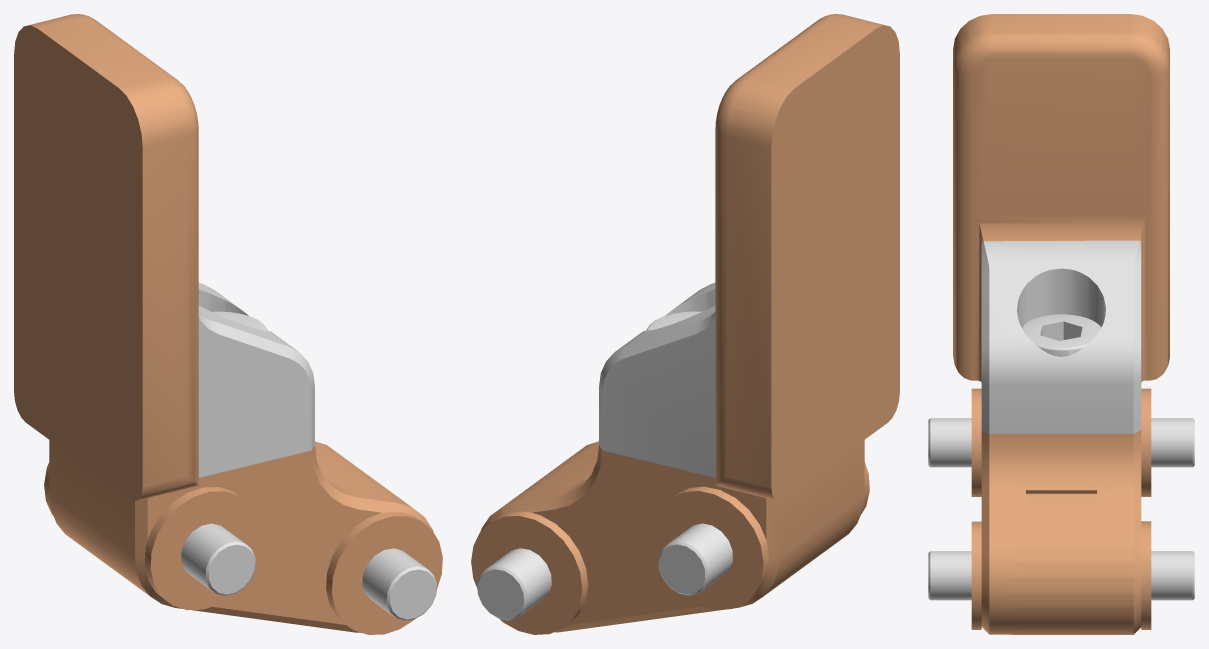
File: left_finger_tip.dae
3 renders of one model, left to right at view 1: azimuth 30°, elevation 25°; view 2: azimuth 150°, elevation 25°; view 3: azimuth 270°, elevation 25°, orthographic. The views are drawn at different scales.
Visible parts, largest first — view 1: left_finger_tip; view 2: left_finger_tip; view 3: left_finger_tip.
Part boxes in pixels (bbox=[...]): left_finger_tip: bbox=[14, 14, 442, 634]; left_finger_tip: bbox=[471, 14, 899, 634]; left_finger_tip: bbox=[928, 14, 1194, 634].
Bounding box in the file's own units: 0.0312 × 0.027 × 0.057.
